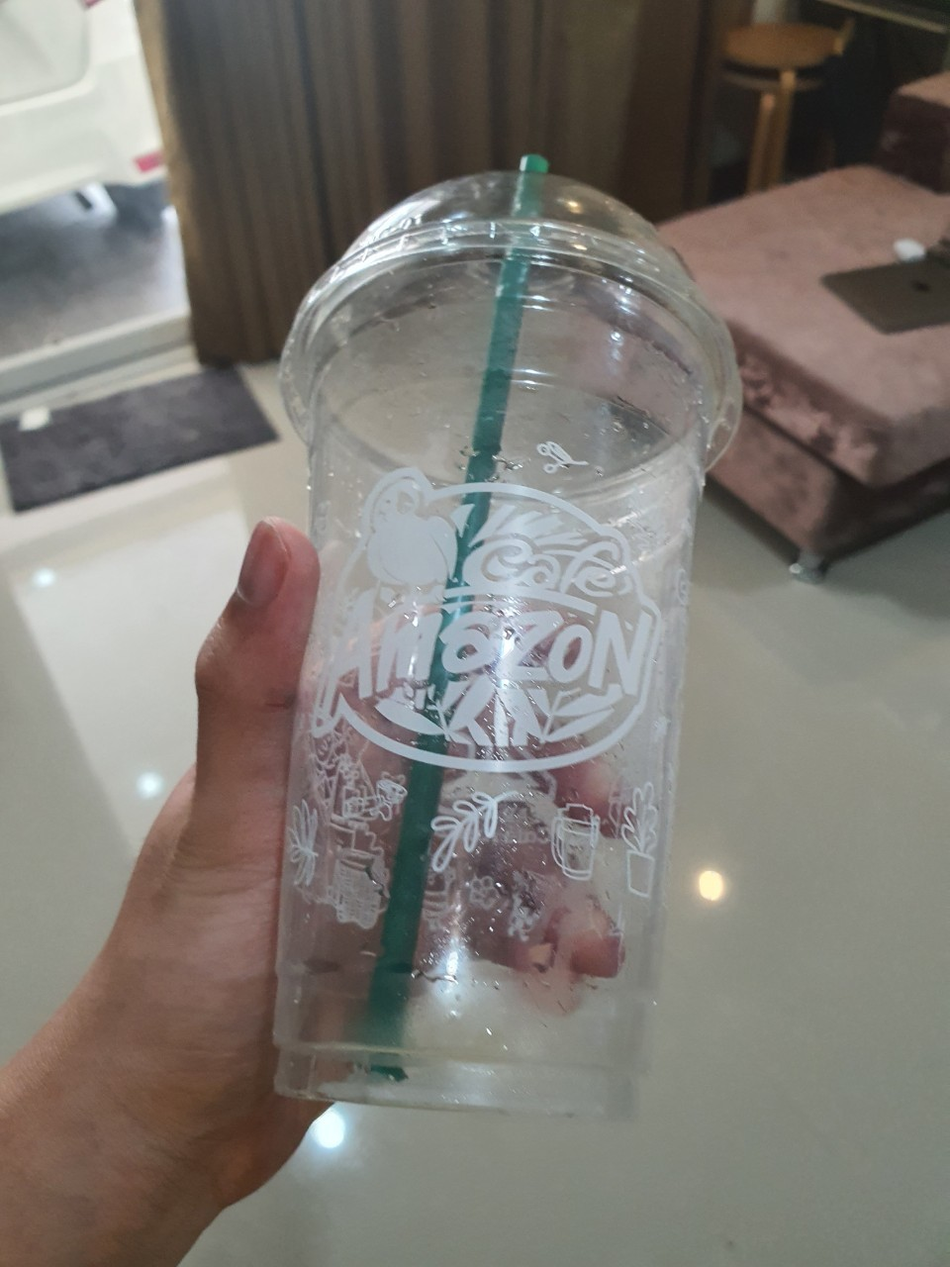plastic: (224, 141, 753, 1140)
